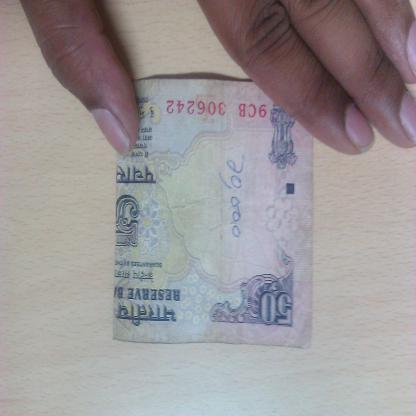Old50Front: (112, 79, 316, 352)
